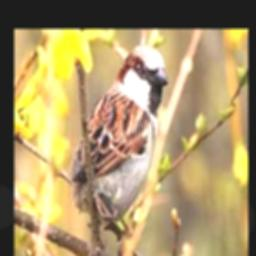Sparrow: (71, 44, 169, 238)
